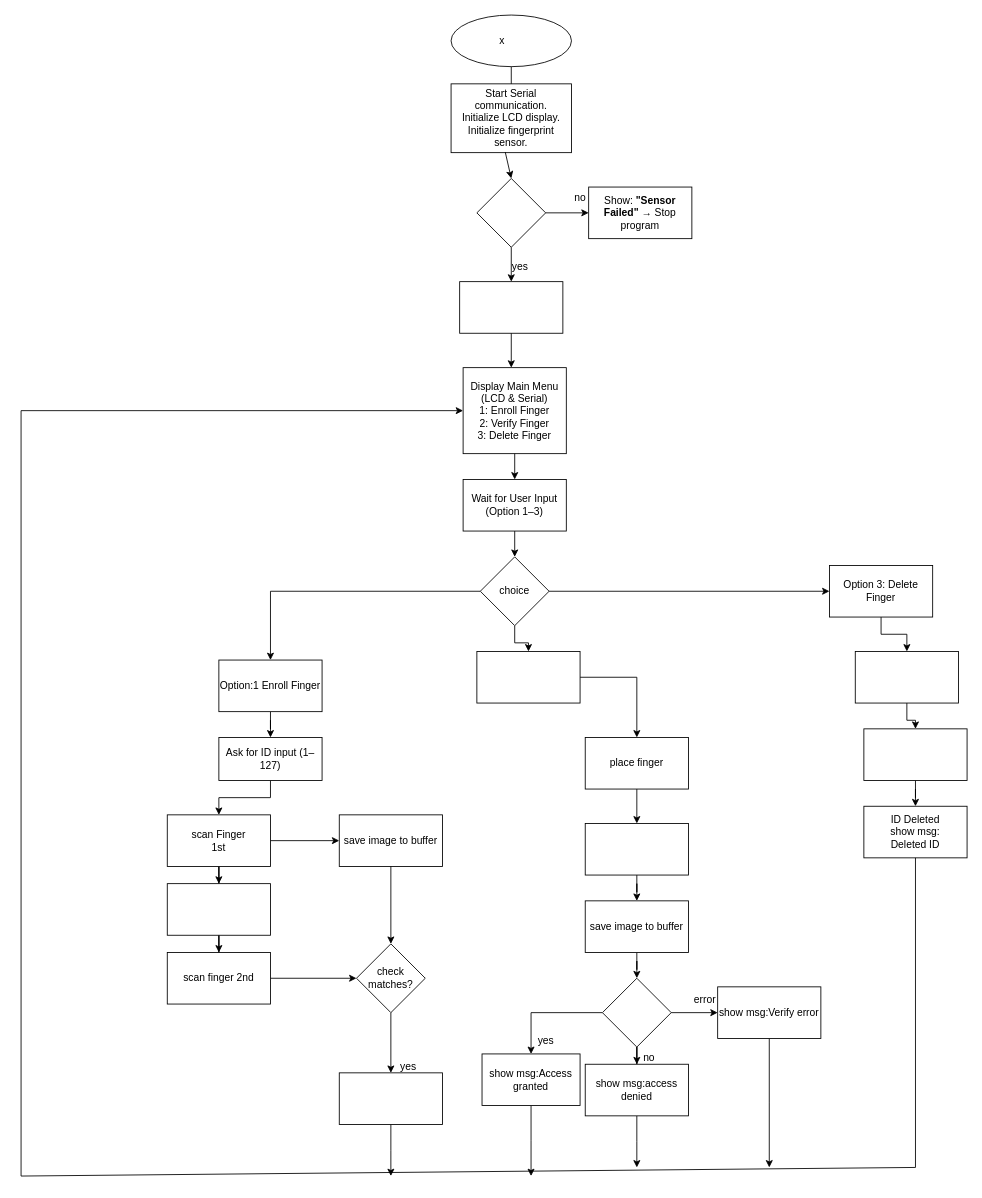
This 982x1198 diagram has some shape labels left out. The centre of each missing label's shape, as x and y in pixels:
create fingermodel with ID and stored Show msg: Enroll sucess: (x=390, y=1098)
option 2: Verify Finger: (x=528, y=677)
promt input ID: (x=915, y=754)
scanfinger: (x=636, y=849)
search for match?: (x=636, y=1012)
sensor is working?: (x=511, y=212)
Show msg:Enter Id to delete: (x=906, y=677)
Show: "Sensor Ready": (x=511, y=307)
wait to remove finger: (x=218, y=909)
